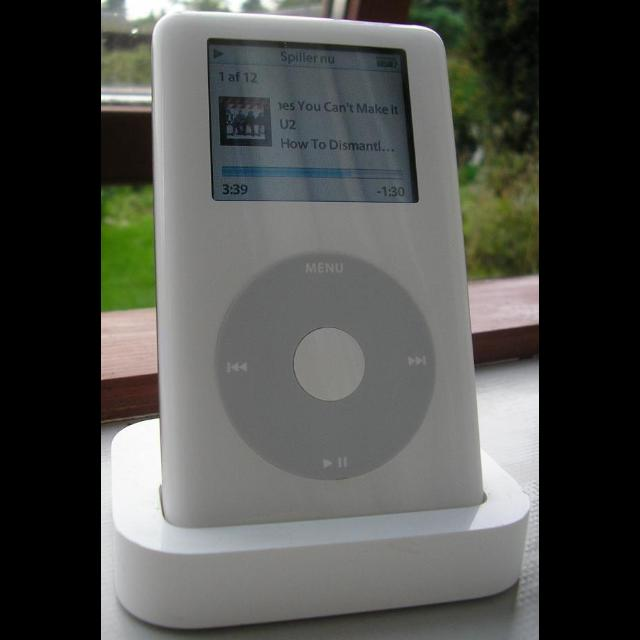Music-Player: (137, 9, 490, 527)
